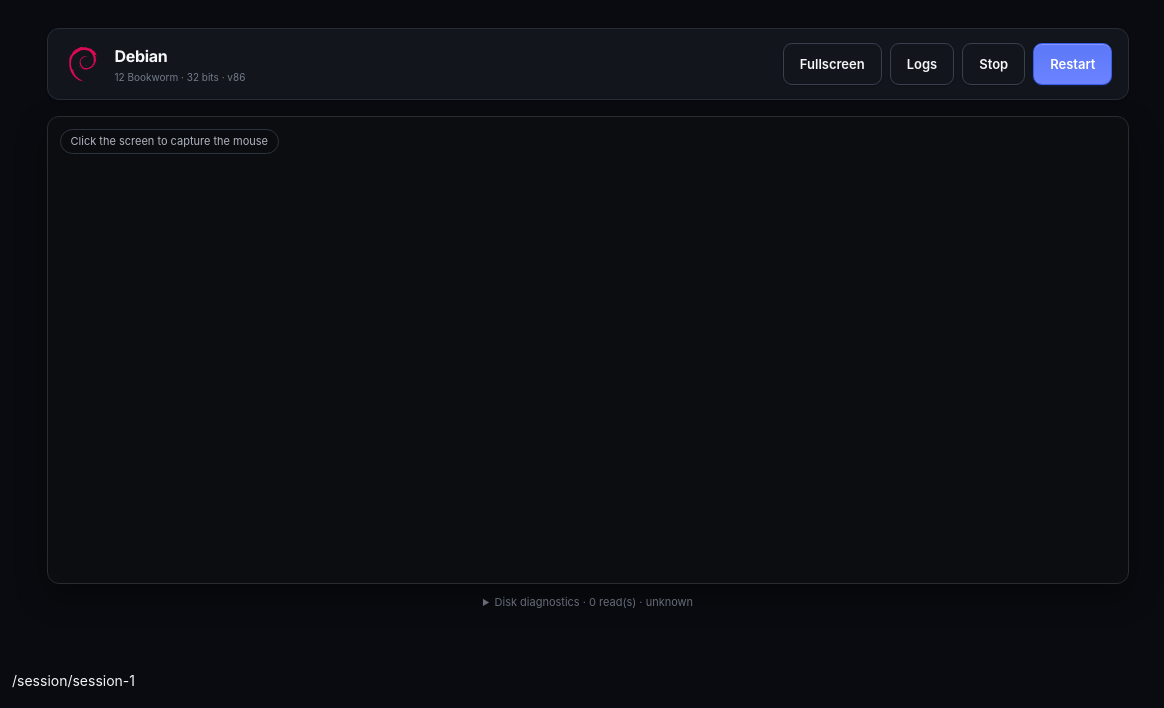
it: SessionPage — capturing asynchronous rejections › shows an alert when a manual stop rejects
The image size is (1164, 708).
Click the button "Stop" at [994, 64], box [962, 43, 1025, 85]
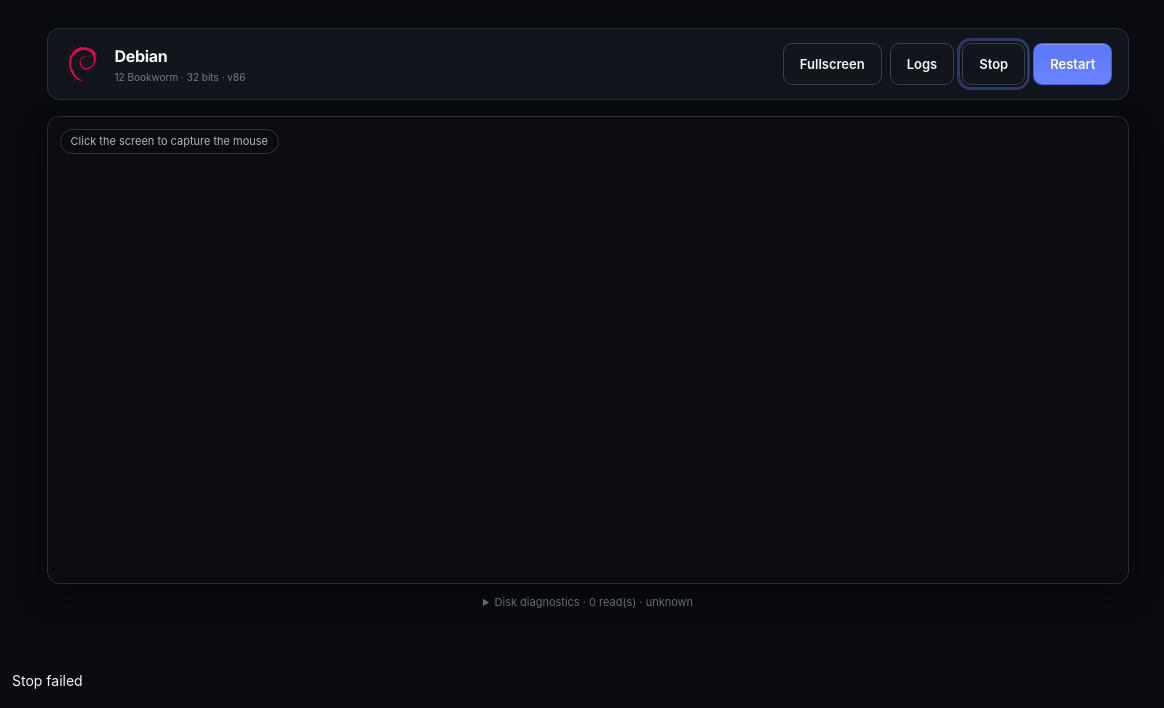
Now the message reads "Stop failed", box [12, 672, 83, 689]
